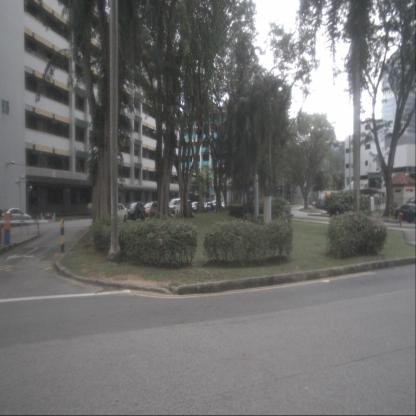vehicle-car: (2, 207, 32, 227), (106, 203, 128, 224), (395, 202, 415, 225), (166, 198, 186, 218), (142, 201, 162, 220), (127, 201, 146, 221), (190, 202, 202, 214), (183, 200, 192, 214), (204, 202, 214, 213), (211, 200, 220, 212), (221, 201, 229, 210)
